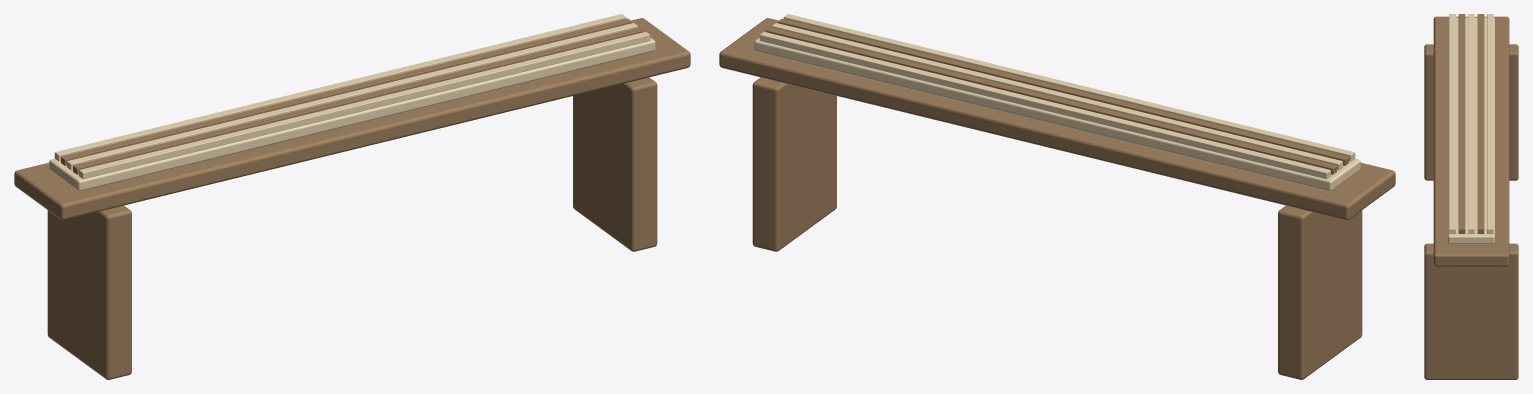
Rendered from marquetry-and-veneer-inlay-workshop-banding-assembly-t-565bb64a__39109.glb.
3 renders of one model, left to right at view 1: azimuth 30°, elevation 25°; view 2: azimuth 150°, elevation 25°; view 3: azimuth 270°, elevation 25°, orthographic. The views are drawn at different scales.
Visible parts, largest first — view 1: banding-assembly-trough; view 2: banding-assembly-trough; view 3: banding-assembly-trough.
Part boxes in pixels (x1=…): banding-assembly-trough: x1=14, y1=14, x2=690, y2=379; banding-assembly-trough: x1=719, y1=14, x2=1395, y2=379; banding-assembly-trough: x1=1424, y1=14, x2=1518, y2=379.
Size of the model in its own units: 1.2 by 0.362 by 0.2.
